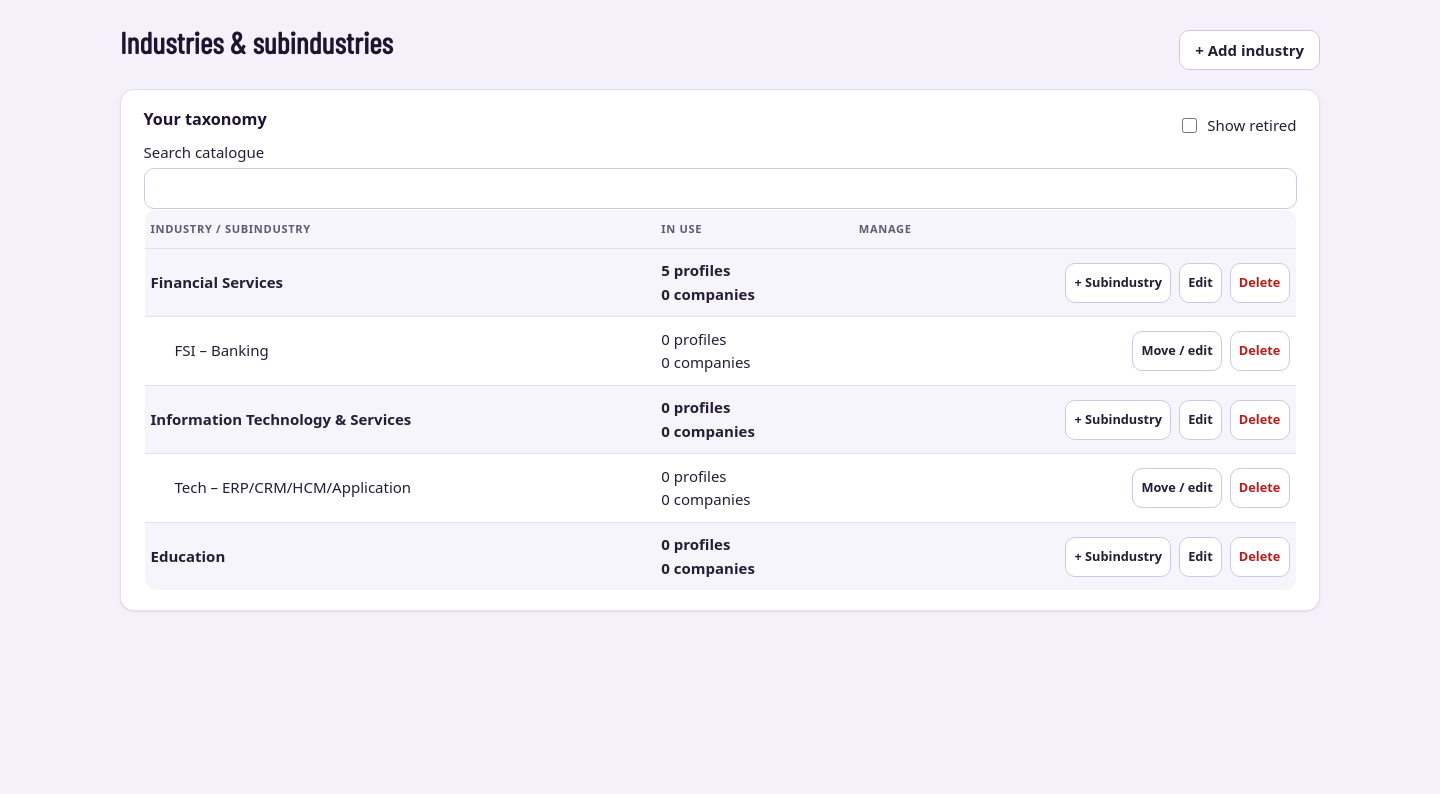
Test: requires a replacement for used categories and preserves the retirement choice
The width and height of the screenshot is (1440, 794).
Later steps or results of the test are not shown.
expect the text "5 profiles0 companies" is shown: met, box [655,248,853,317]
expect the text "Financial Services" is shown: met, box [150,272,283,292]
Click the button "Delete" in the row of "Financial Services" at {"x": 1260, "y": 282}, box [1230,262,1290,302]
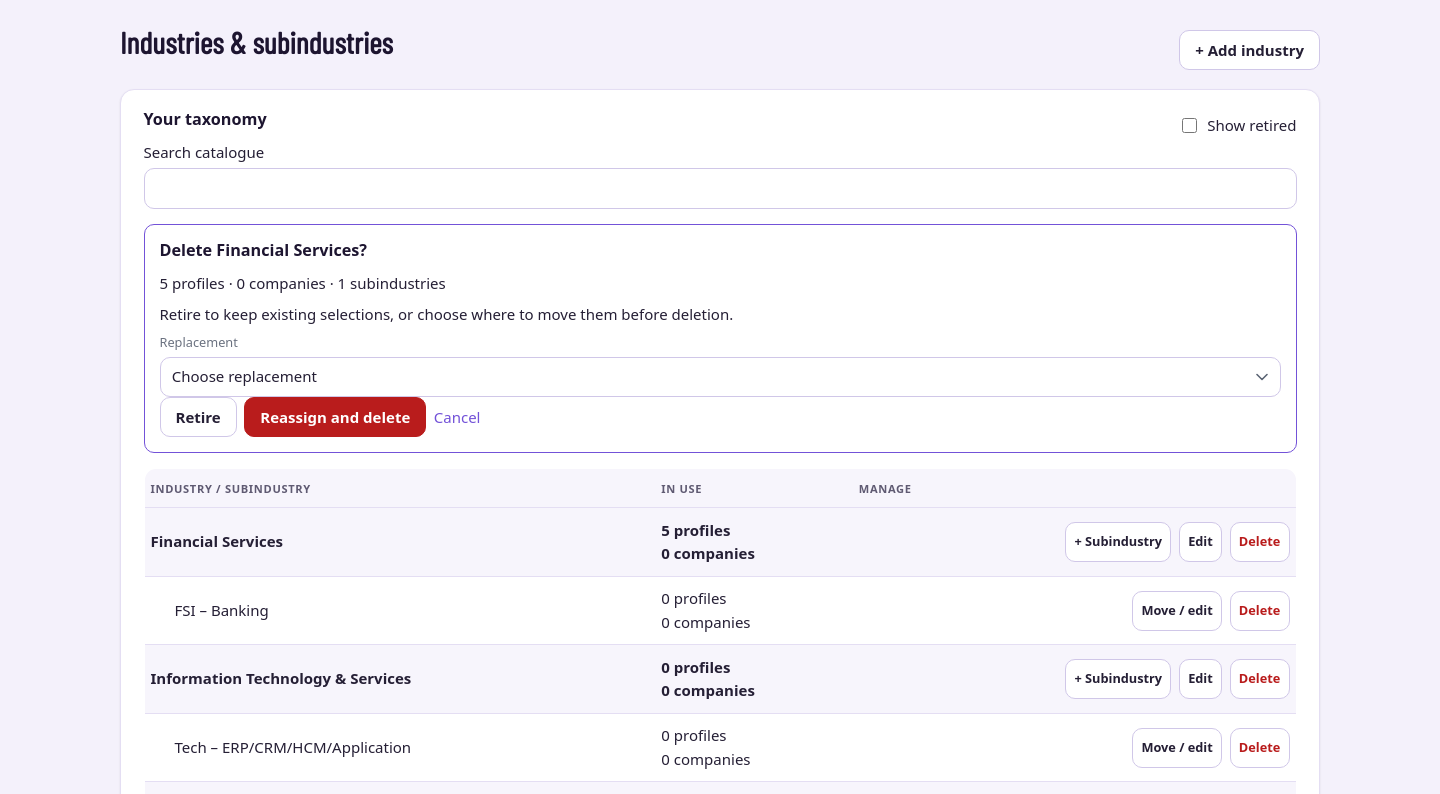
Click the button "Reassign and delete" at {"x": 335, "y": 417}, box [244,397,426,437]
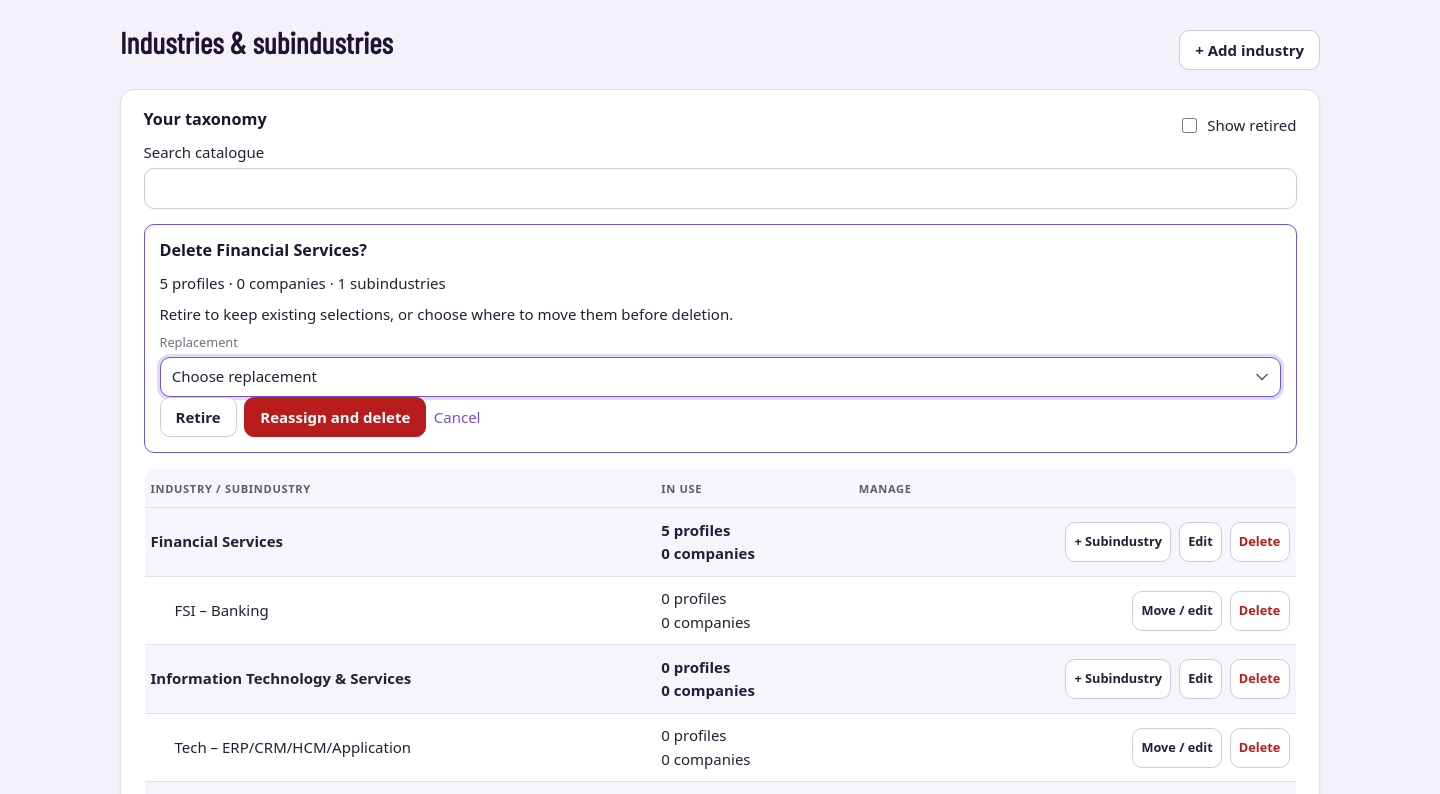
expect the button "Retire" is enabled: met, box [160,397,237,437]
